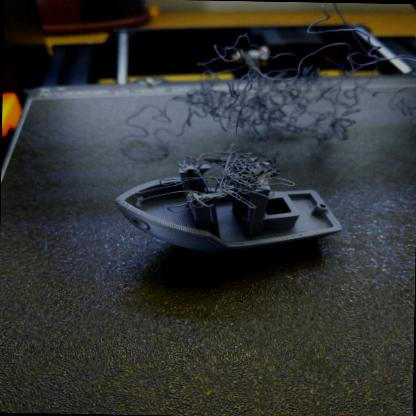fail: (138, 50, 366, 137), (173, 149, 295, 220)
